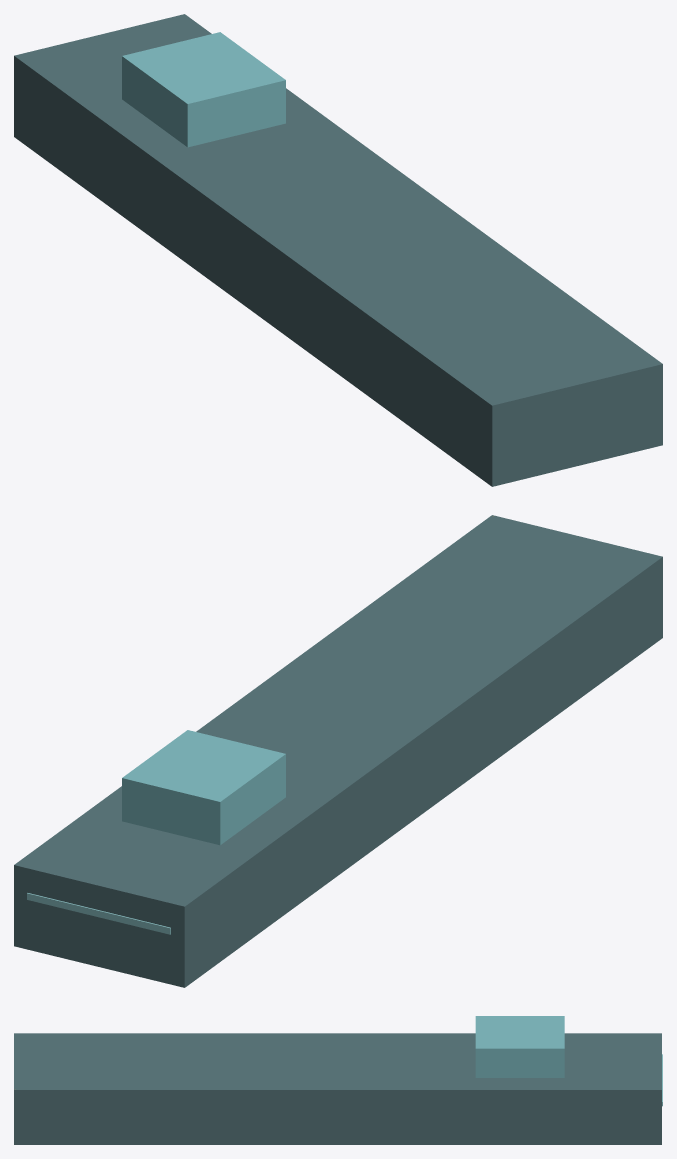
The picture shows the model from 3 angles, top to bottom: view 1: azimuth 30°, elevation 25°; view 2: azimuth 150°, elevation 25°; view 3: azimuth 270°, elevation 25°; orthographic projection. The views are drawn at different scales.
Visible parts, largest first — view 1: 原三盒载具代理尺寸派生; view 2: 原三盒载具代理尺寸派生; view 3: 原三盒载具代理尺寸派生.
Part boxes in pixels (left/top/right/bottom): 原三盒载具代理尺寸派生: left=14, top=14, right=662, bottom=486; 原三盒载具代理尺寸派生: left=14, top=515, right=662, bottom=987; 原三盒载具代理尺寸派生: left=14, top=1016, right=662, bottom=1144.
Bounding box in the file's own units: 3.3 × 2.3 × 16.02.
Materials: 4 (4 with a texture image).
